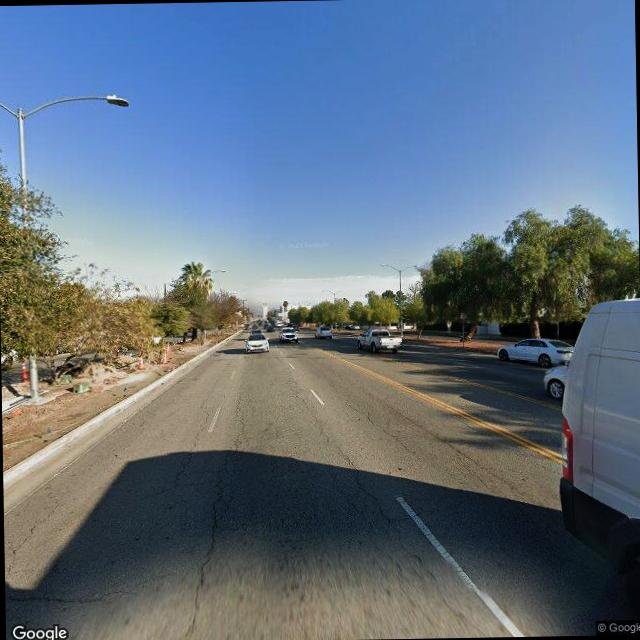crack: (170, 396, 243, 638), (334, 449, 432, 571), (3, 496, 60, 596), (342, 392, 412, 450)
